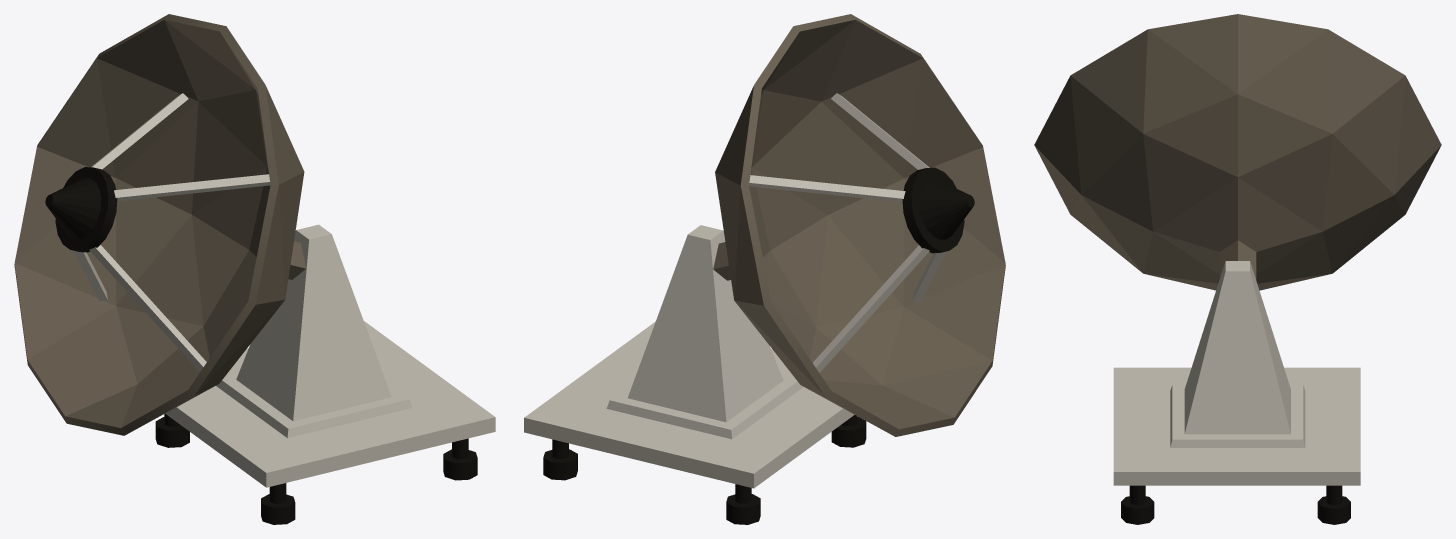
The model's file is 06 Signal_Dish.FBX.glb.
3 renders of one model, left to right at view 1: azimuth 30°, elevation 25°; view 2: azimuth 150°, elevation 25°; view 3: azimuth 270°, elevation 25°, orthographic. The views are drawn at different scales.
Parts seen in each view (by area): view 1: Dish.2; view 2: Dish.2; view 3: Dish.2.
Part boxes in pixels (x1,y1,x2,y2): Dish.2: (14,14,495,524); Dish.2: (524,14,1005,524); Dish.2: (1034,14,1441,524).
Size of the model in its own units: 1543 by 1744 by 1527.
